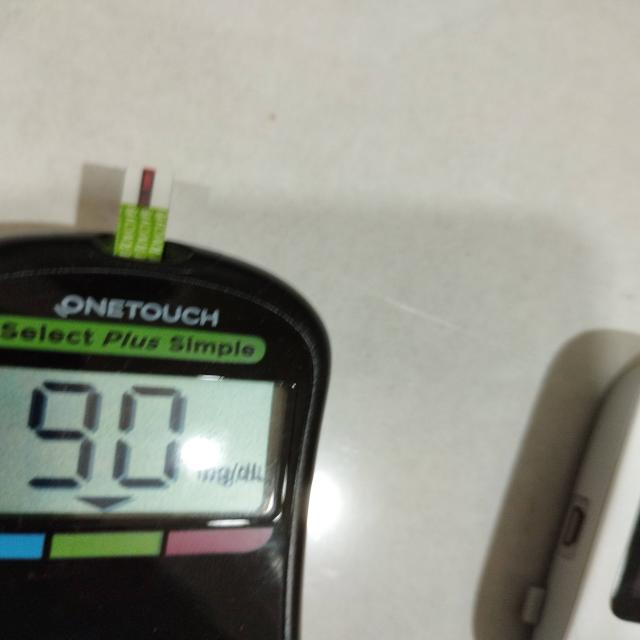gluco: (0, 233, 331, 640)
